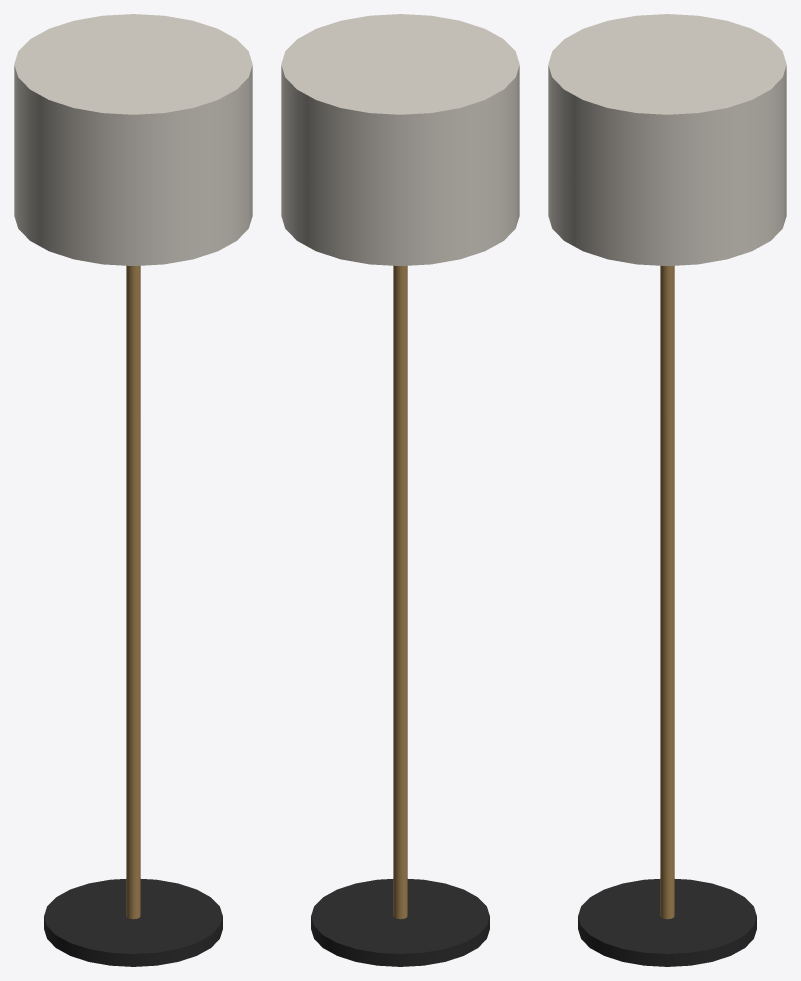
3 renders of one model, left to right at view 1: azimuth 30°, elevation 25°; view 2: azimuth 150°, elevation 25°; view 3: azimuth 270°, elevation 25°, orthographic.
Parts seen in each view (by area): view 1: shade, base, pole; view 2: shade, base, pole; view 3: shade, base, pole.
Boxes of the visible parts, x1=… form: shade: x1=14, y1=14, x2=252, y2=265; base: x1=44, y1=879, x2=222, y2=966; pole: x1=126, y1=265, x2=140, y2=919; shade: x1=281, y1=14, x2=519, y2=265; base: x1=311, y1=879, x2=489, y2=966; pole: x1=393, y1=265, x2=407, y2=919; shade: x1=548, y1=14, x2=786, y2=265; base: x1=578, y1=879, x2=756, y2=966; pole: x1=660, y1=265, x2=674, y2=919.
Bounding box in the file's own units: 0.4 × 1.6 × 0.4.
